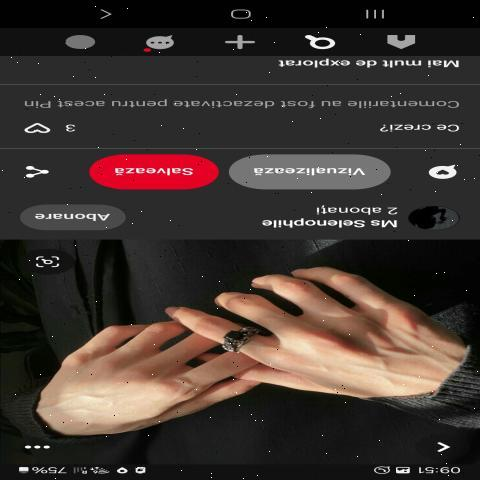Hands: (152, 237, 472, 441), (16, 311, 276, 459)
